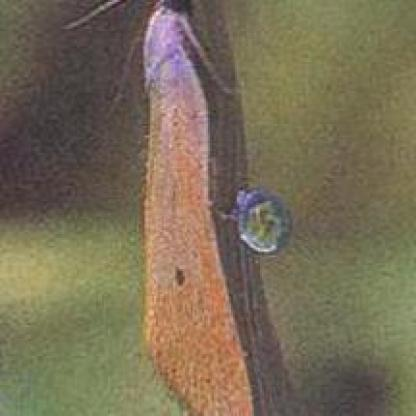stem-borer: (139, 0, 235, 416)
